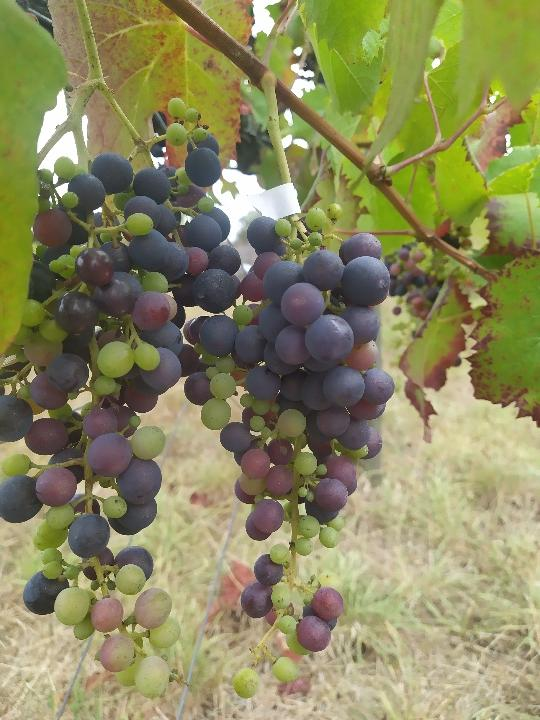grape: (0, 93, 244, 703), (181, 201, 398, 702)
